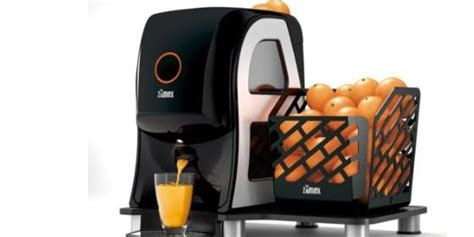orange: (304, 78, 335, 111), (321, 94, 355, 121), (353, 95, 382, 120), (353, 75, 377, 100)
